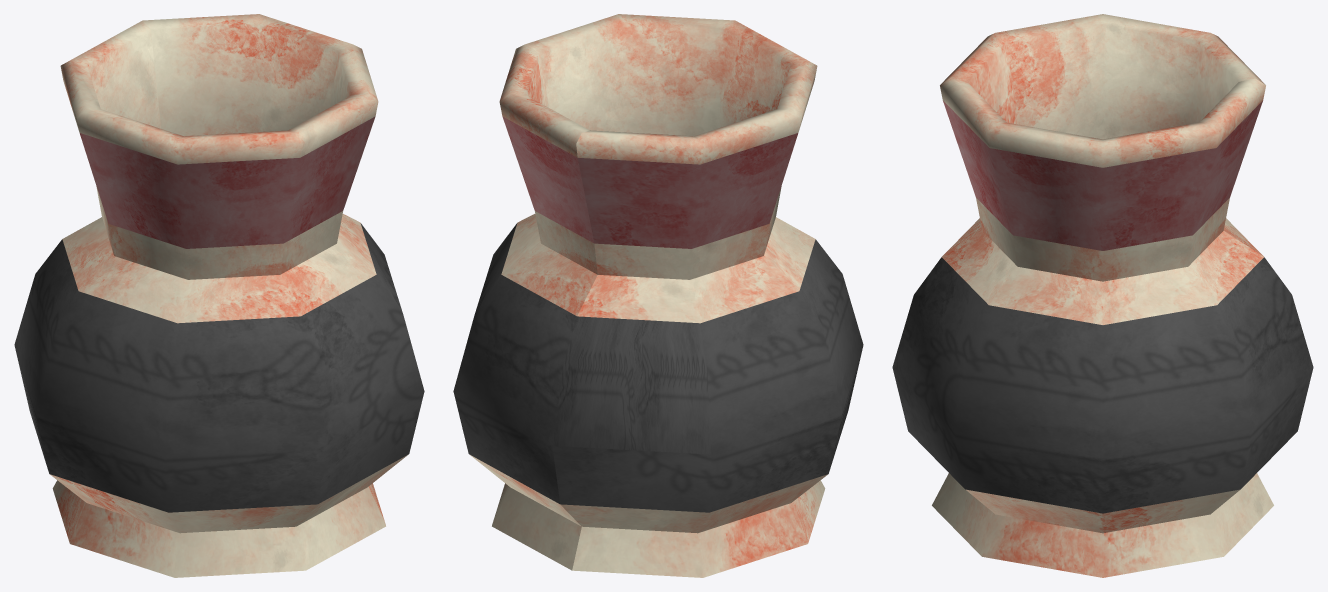
Rendered from vase.glb.
The picture shows the model from 3 angles, left to right: view 1: azimuth 30°, elevation 25°; view 2: azimuth 150°, elevation 25°; view 3: azimuth 270°, elevation 25°; orthographic projection.
Visible parts, largest first — view 1: stk_generic_pinkCeramic_a.png__, stk_generic_blackCeramic_a.png__, stk_generic_redCeramic_a.png__; view 2: stk_generic_pinkCeramic_a.png__, stk_generic_blackCeramic_a.png__, stk_generic_redCeramic_a.png__; view 3: stk_generic_pinkCeramic_a.png__, stk_generic_blackCeramic_a.png__, stk_generic_redCeramic_a.png__.
Boxes of the visible parts, x1,y1,x2,y2 form: stk_generic_pinkCeramic_a.png__: [50, 14, 408, 577]; stk_generic_blackCeramic_a.png__: [14, 223, 424, 512]; stk_generic_redCeramic_a.png__: [79, 116, 375, 248]; stk_generic_pinkCeramic_a.png__: [469, 14, 827, 577]; stk_generic_blackCeramic_a.png__: [453, 223, 863, 512]; stk_generic_redCeramic_a.png__: [502, 116, 798, 248]; stk_generic_pinkCeramic_a.png__: [932, 14, 1273, 577]; stk_generic_blackCeramic_a.png__: [892, 257, 1313, 513]; stk_generic_redCeramic_a.png__: [943, 101, 1262, 250].
Bounding box in the file's own units: 1.8 × 2.01 × 1.8.
3 materials, 3 textured.
